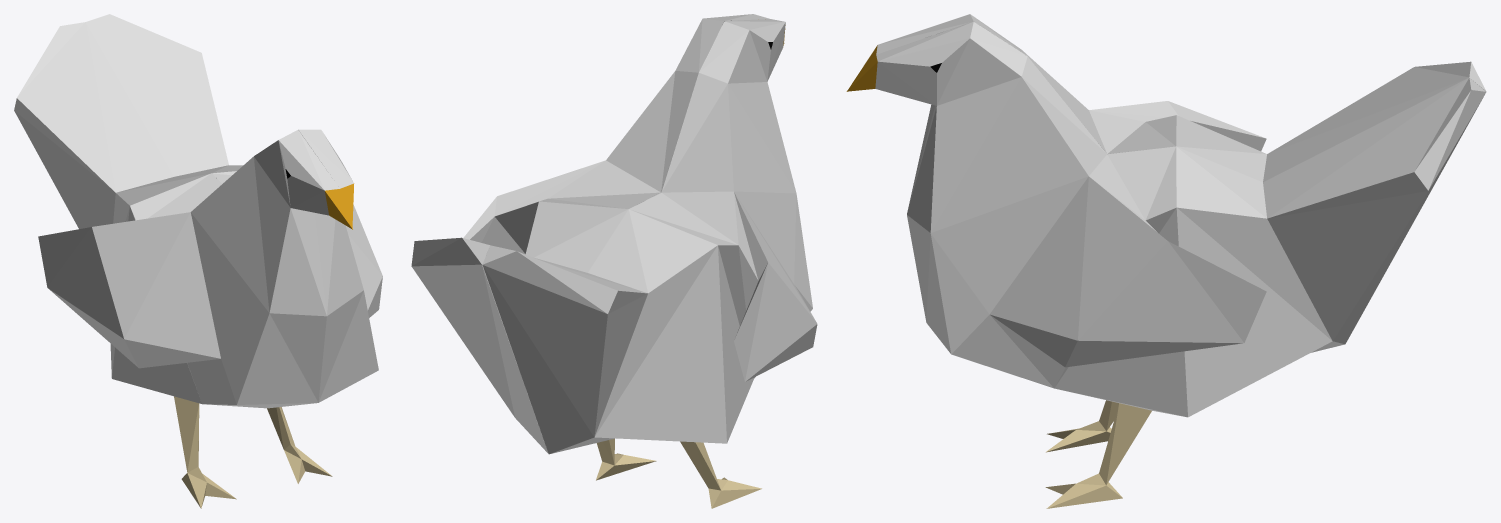
Rendered from Chicken.fbx.
3 views of the same model, side by side, from view 1: azimuth 30°, elevation 25°; view 2: azimuth 150°, elevation 25°; view 3: azimuth 270°, elevation 25° (orthographic). The views are drawn at different scales.
Parts seen in each view (by area): view 1: Cube; view 2: Cube; view 3: Cube.
Part boxes in pixels (x1,y1,x2,y2): Cube: (14, 14, 382, 508); Cube: (411, 14, 817, 508); Cube: (846, 14, 1486, 508).
Size of the model in its own units: 34.48 by 47.16 by 60.8.
